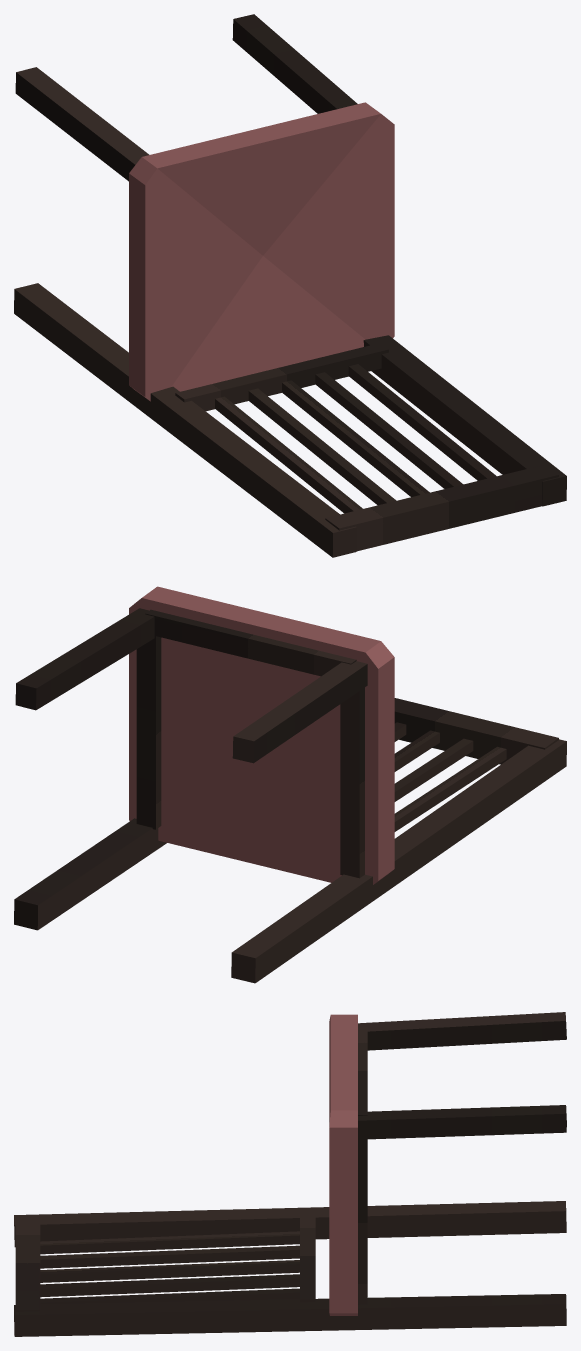
Rendered from pz_chair_seating_indoor_03_fancy_wooden_fidelity_r1.obj.
3 renders of one model, top to bottom at view 1: azimuth 30°, elevation 25°; view 2: azimuth 150°, elevation 25°; view 3: azimuth 270°, elevation 25°, orthographic. The views are drawn at different scales.
Visible parts, largest first — view 1: seat, wood; view 2: wood, seat; view 3: wood, seat.
Part boxes in pixels (x1,y1,x2,y2): seat: (129,102,394,401); wood: (14,14,566,557); wood: (14,608,566,983); seat: (129,586,394,884); wood: (14,1012,566,1336); seat: (329,1014,357,1315).
Size of the model in its own units: 0.4904 by 0.4816 by 1.08.
Materials: 1 (1 with a texture image).
